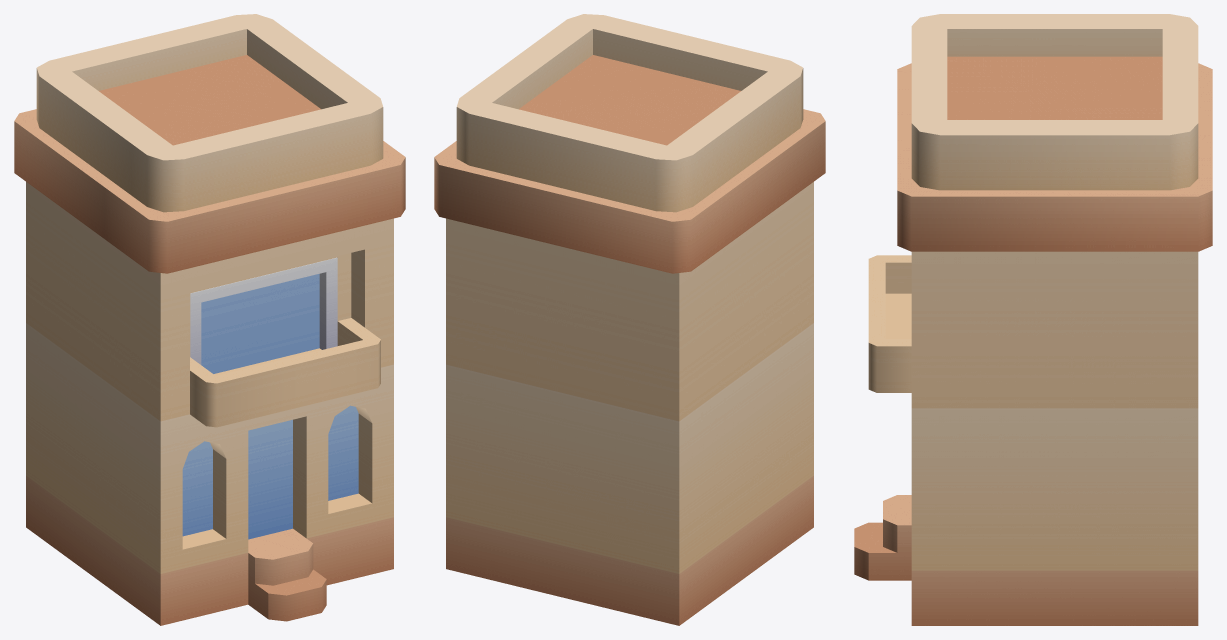
The picture shows the model from 3 angles, left to right: view 1: azimuth 30°, elevation 25°; view 2: azimuth 150°, elevation 25°; view 3: azimuth 270°, elevation 25°; orthographic projection. The views are drawn at different scales.
Visible parts, largest first — view 1: building-sample-tower-b; view 2: building-sample-tower-b; view 3: building-sample-tower-b.
Part boxes in pixels (x1,y1,x2,y2): building-sample-tower-b: [14, 14, 405, 625]; building-sample-tower-b: [434, 14, 825, 625]; building-sample-tower-b: [854, 14, 1212, 625].
Bounding box in the file's own units: 1.1 × 1.89 × 1.25.
1 material, 1 textured.
